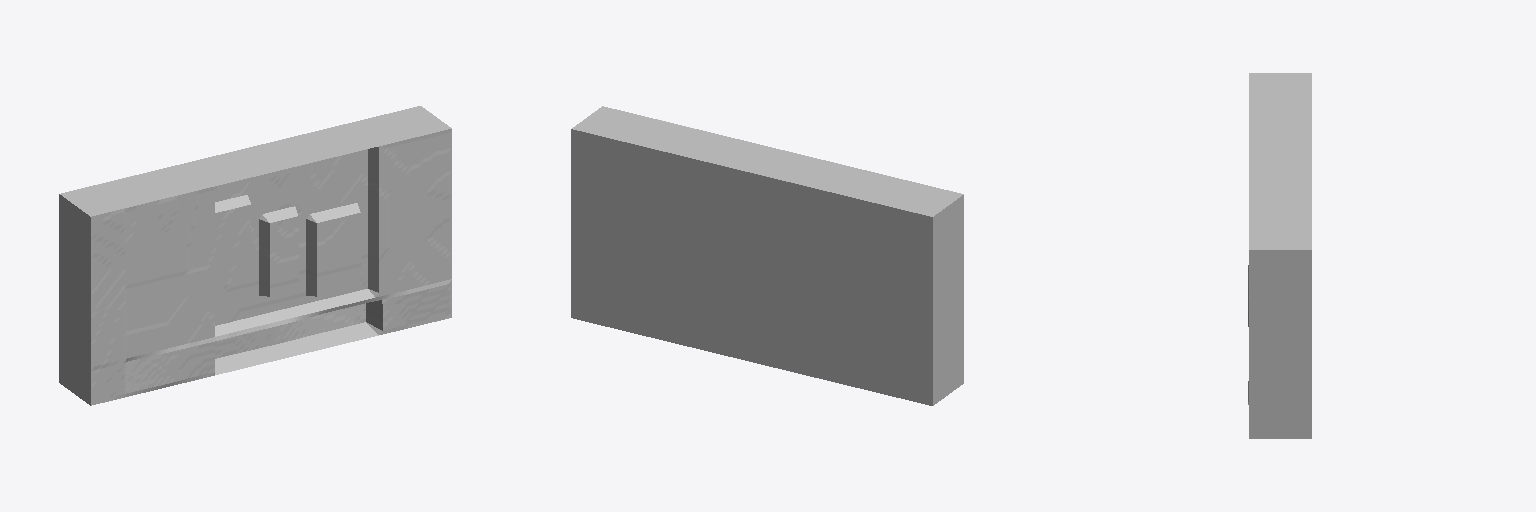
File: rectangular_prism_bumps_4_9.obj
3 renders of one model, left to right at view 1: azimuth 30°, elevation 25°; view 2: azimuth 150°, elevation 25°; view 3: azimuth 270°, elevation 25°, orthographic.
Bounding box in the file's own units: 10 × 5 × 1.53.